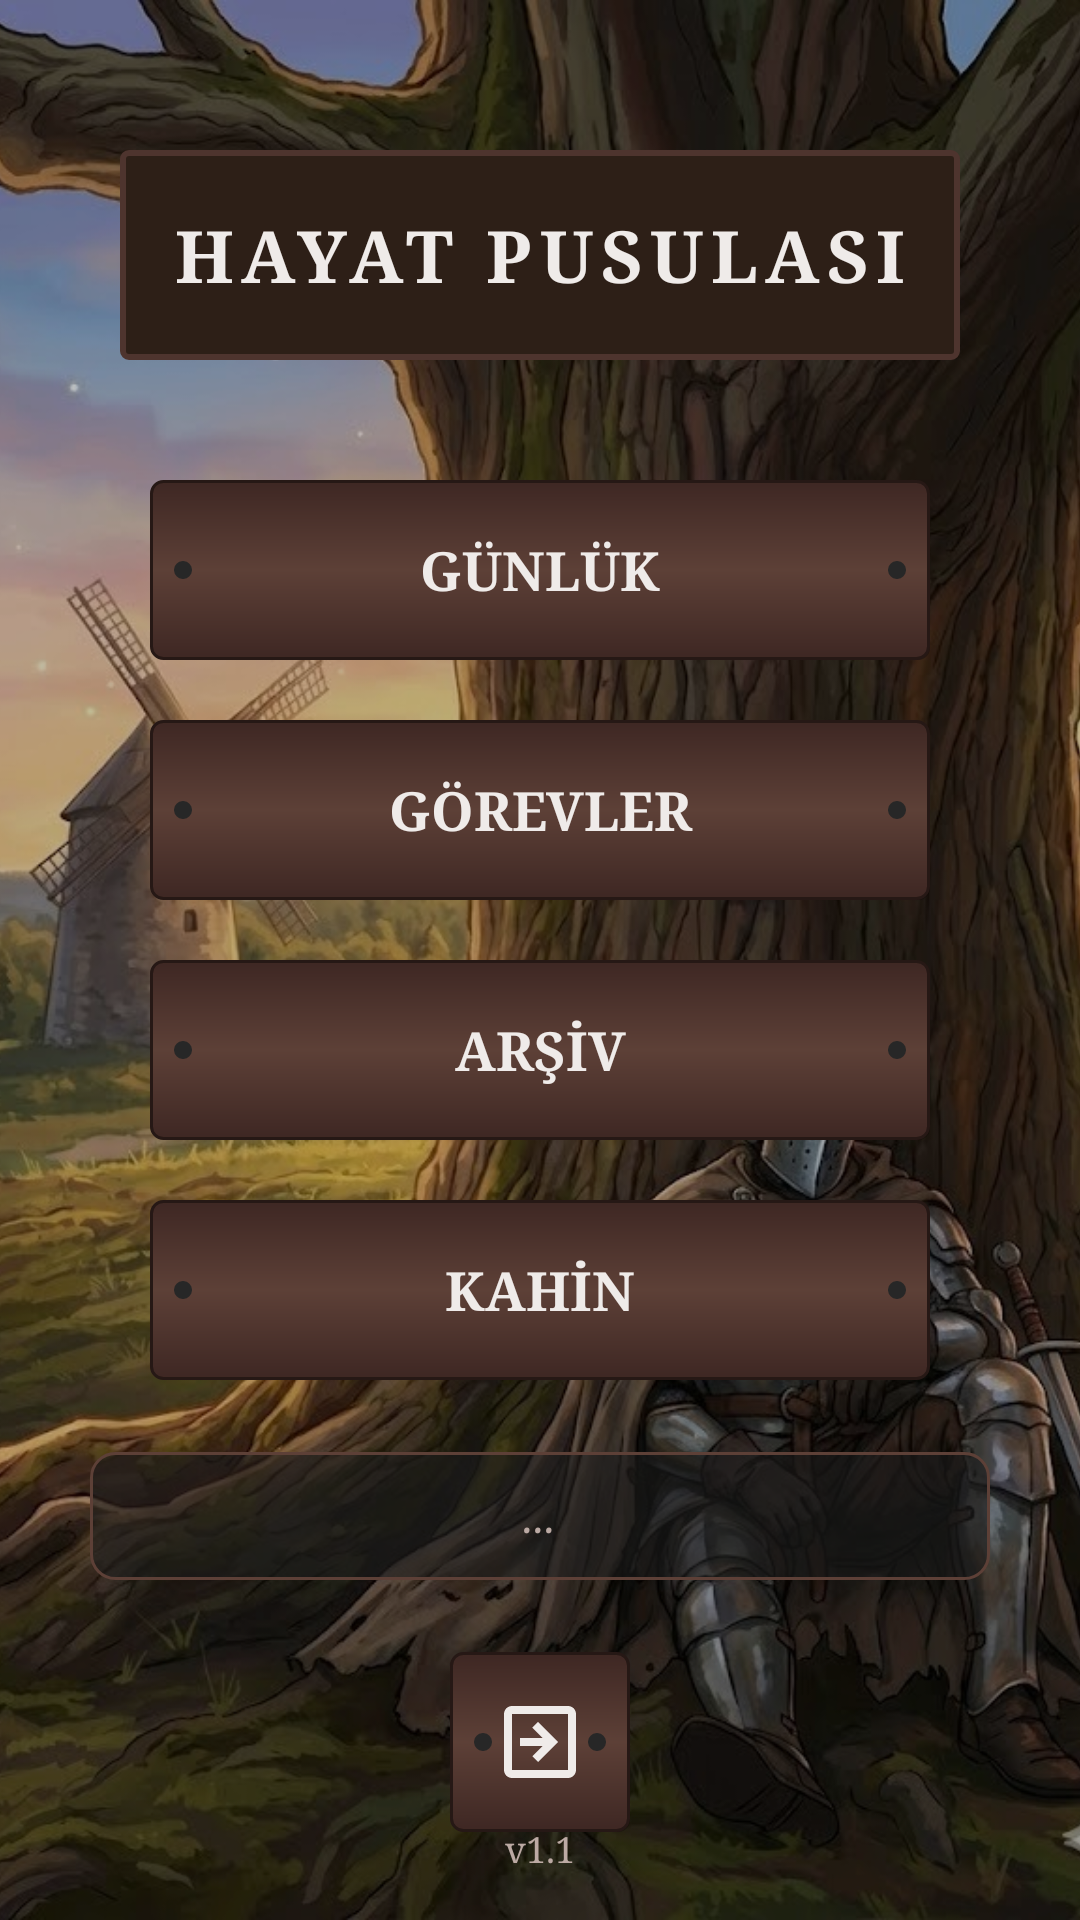

Screen size 1080px x 1920px. Icon name, then its center in pixels as point (x, y):
Çıkış Yap - Kapı: point (540, 1742)
